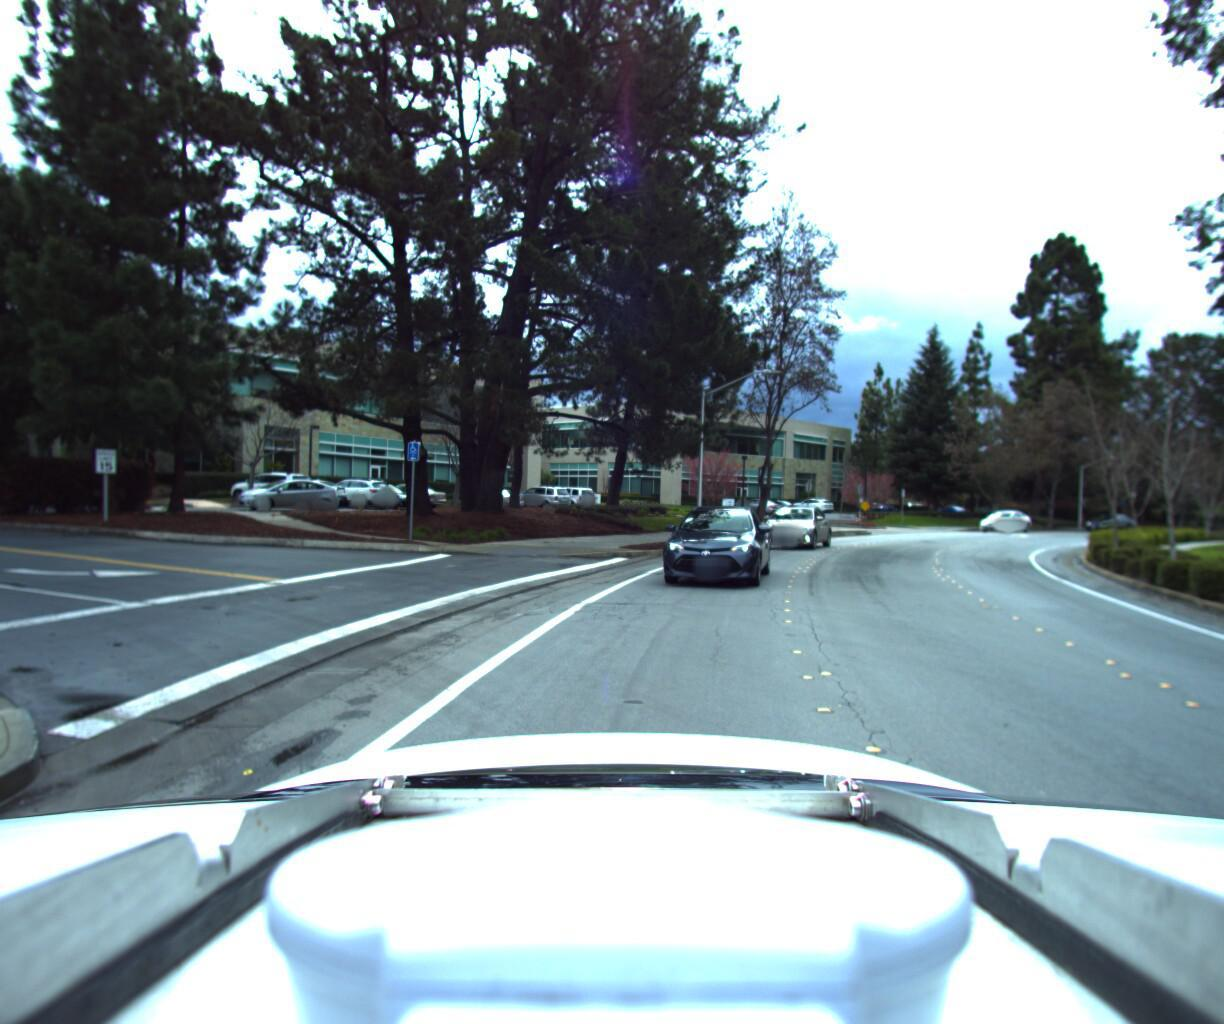car: (647, 499, 772, 593), (745, 497, 825, 546), (970, 502, 1027, 531)
